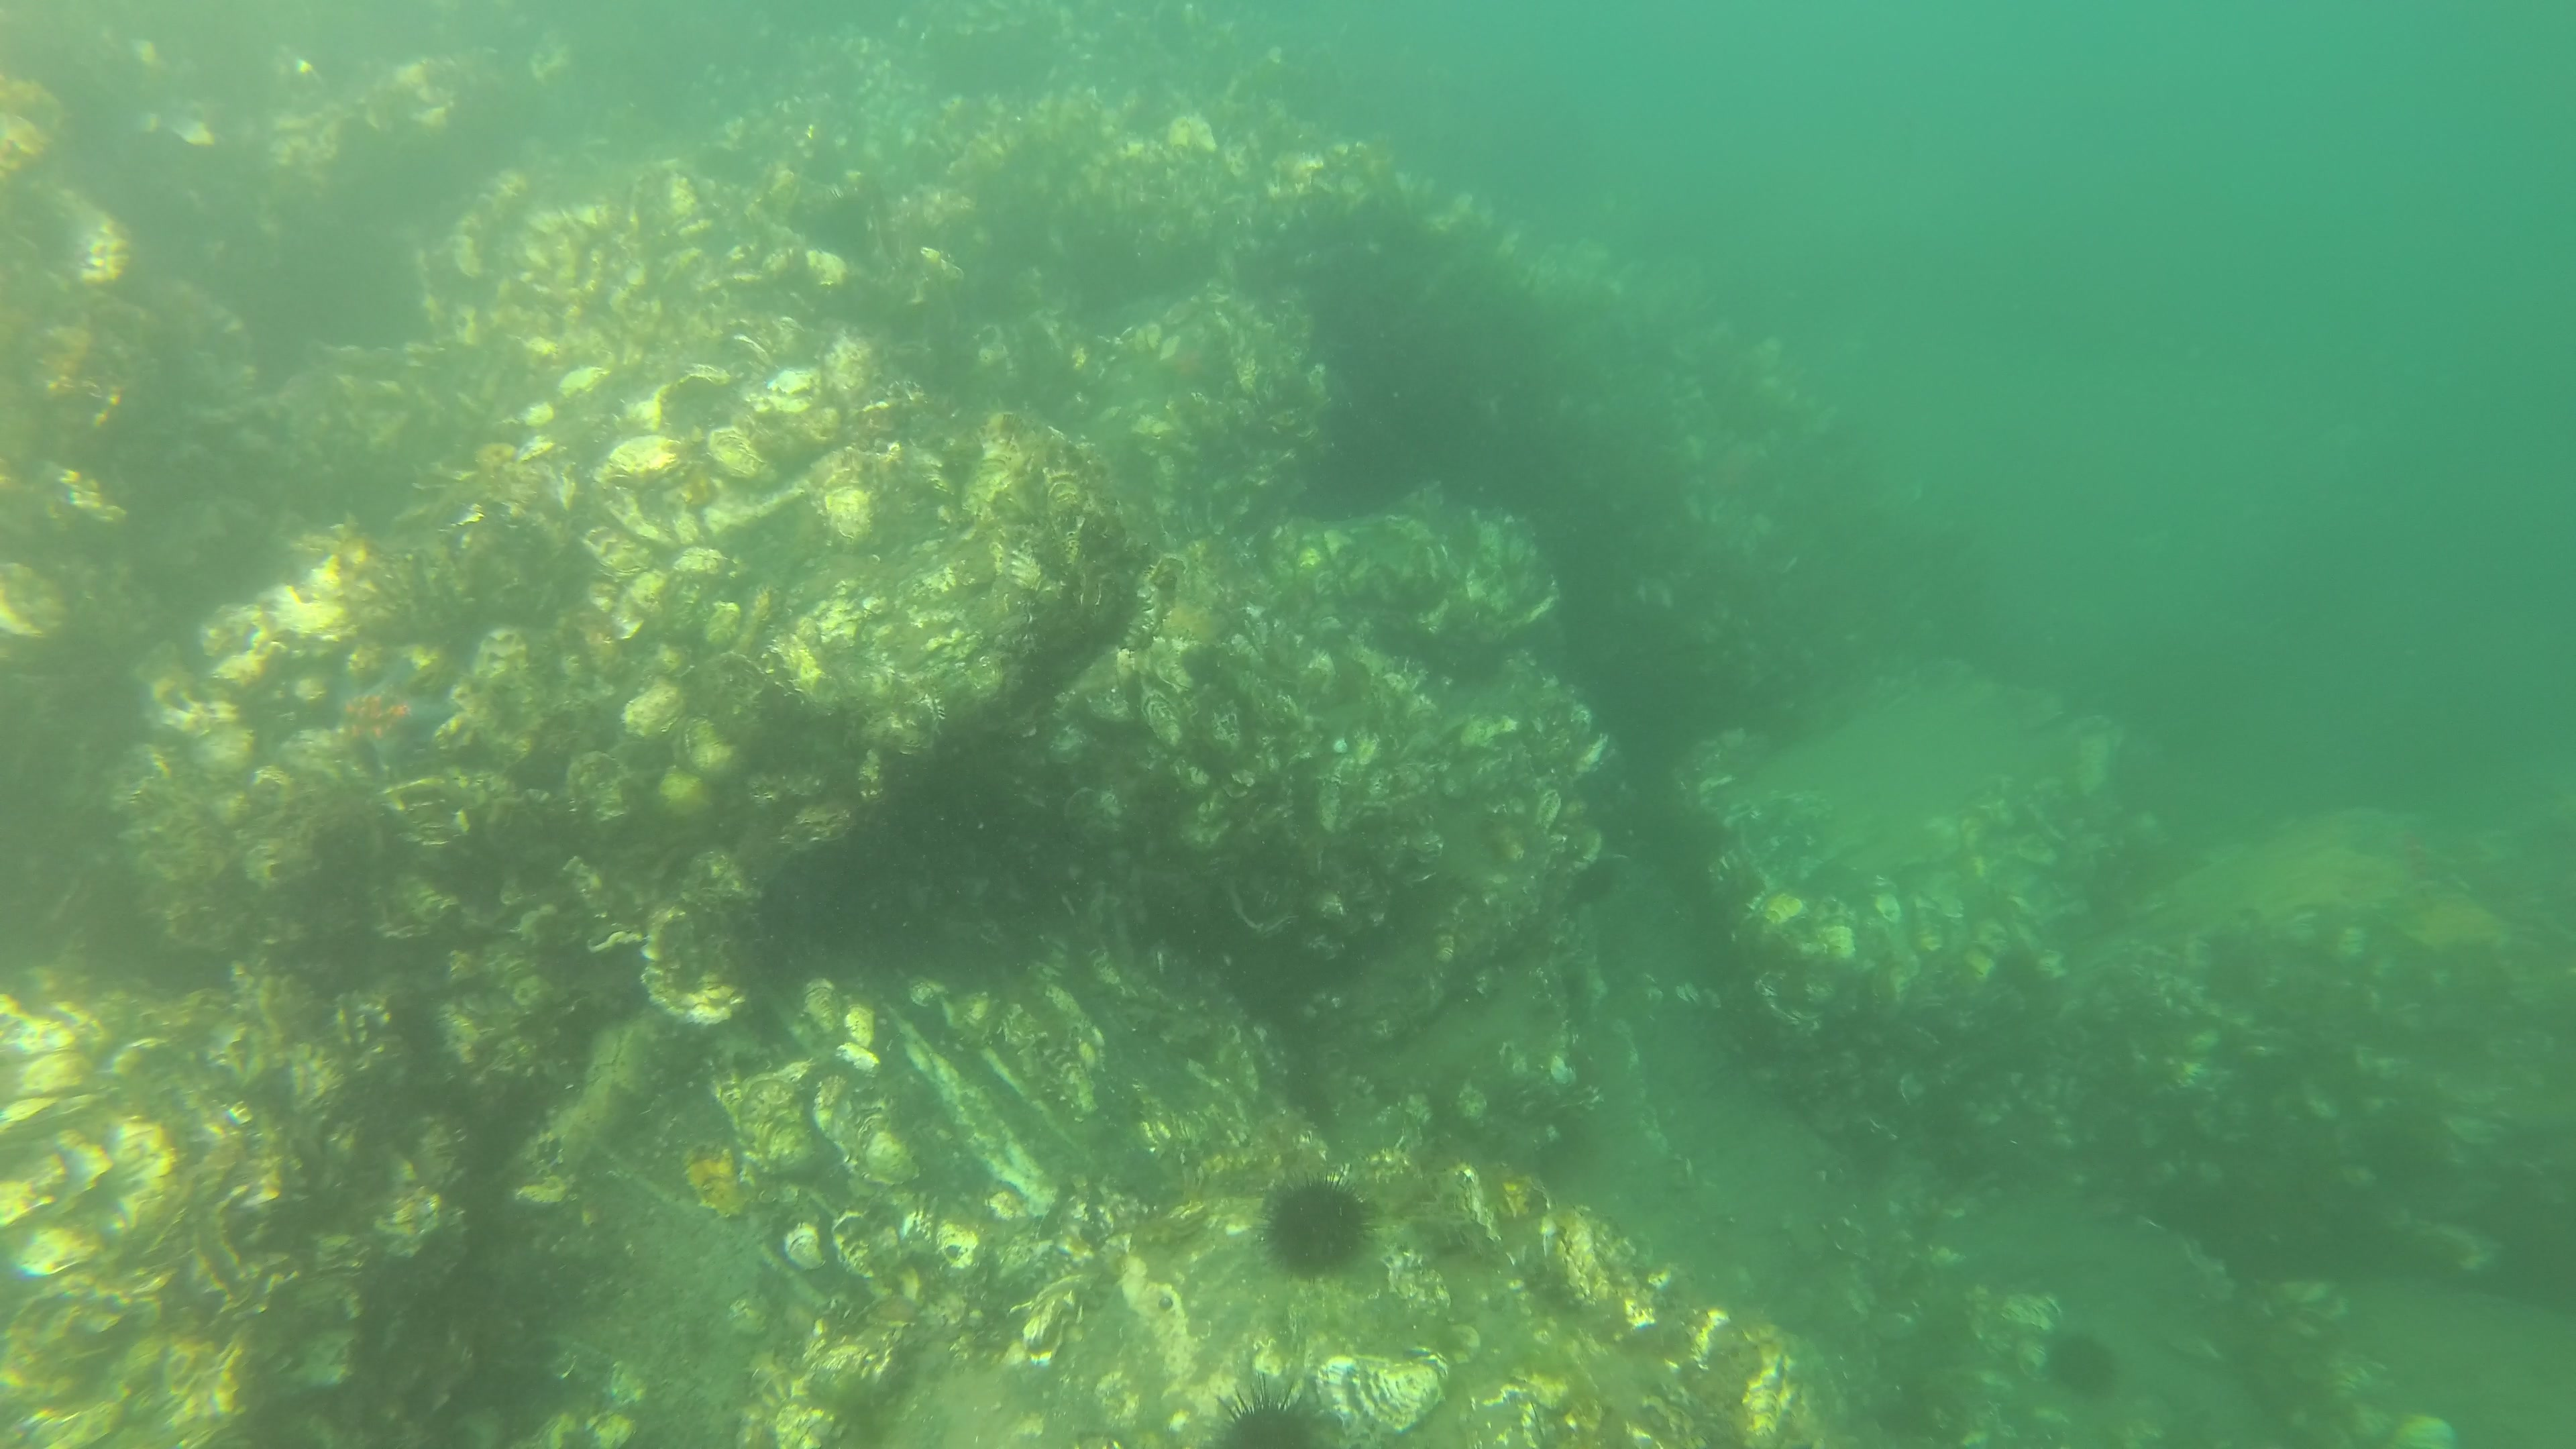echinus: (1260, 1166, 1382, 1290), (1201, 1384, 1341, 1449), (2047, 1323, 2120, 1399), (1575, 856, 1624, 908)
starfish: (322, 663, 456, 763), (1152, 347, 1226, 396)
